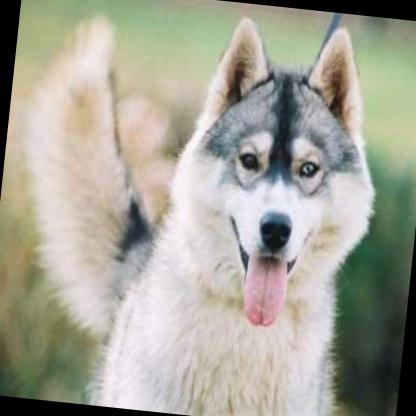Eskimo_dog: (4, 0, 393, 416)
